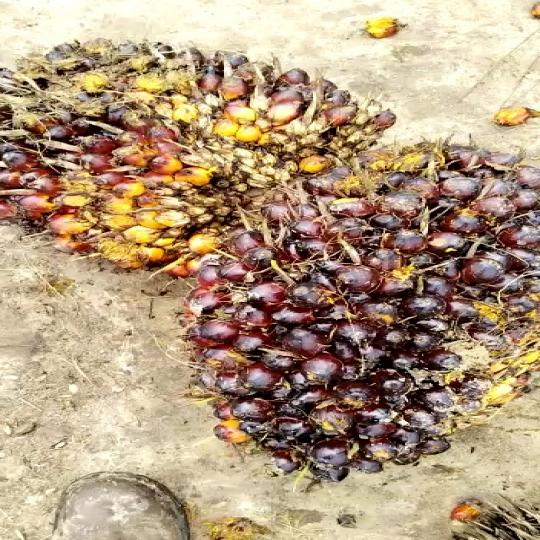kurang masak: (193, 140, 535, 485), (0, 38, 391, 266)
